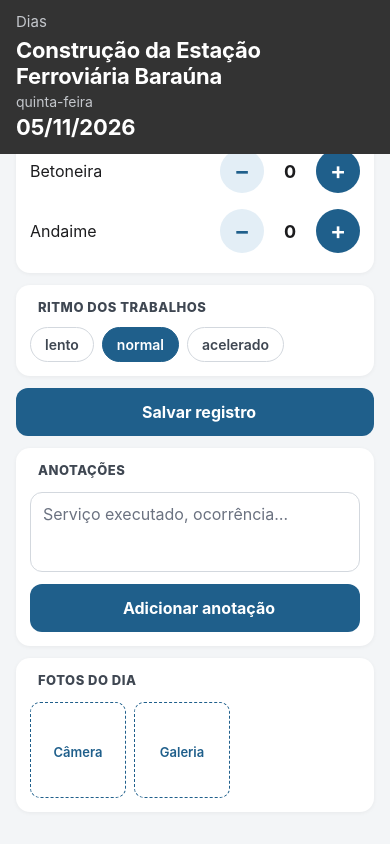
Test: Fotos do dia › foto da câmera é salva no dia da captura, com autor, e aparece na tela
(page scrolled)
What coordinates should you click on to do the following:
click the element with test id "tirar-foto"
I would click on:
 (78, 750)
Its box is [30, 702, 126, 798].
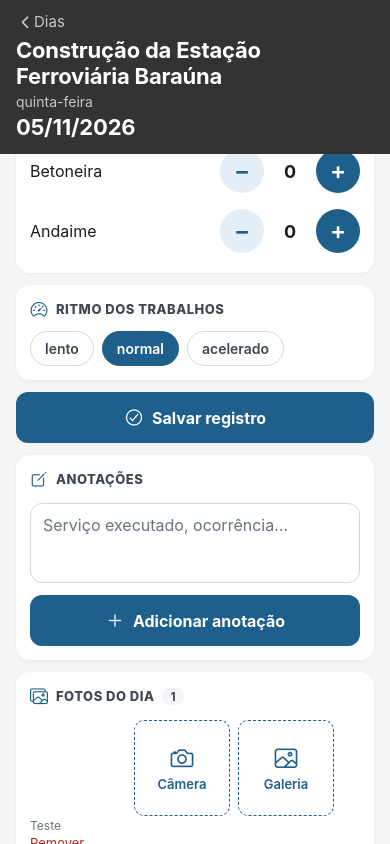
Expected: the number of elements with test id "foto-item" is 1, [30, 818, 84, 843]
Expected: the text "Teste" is shown, [30, 818, 61, 833]
